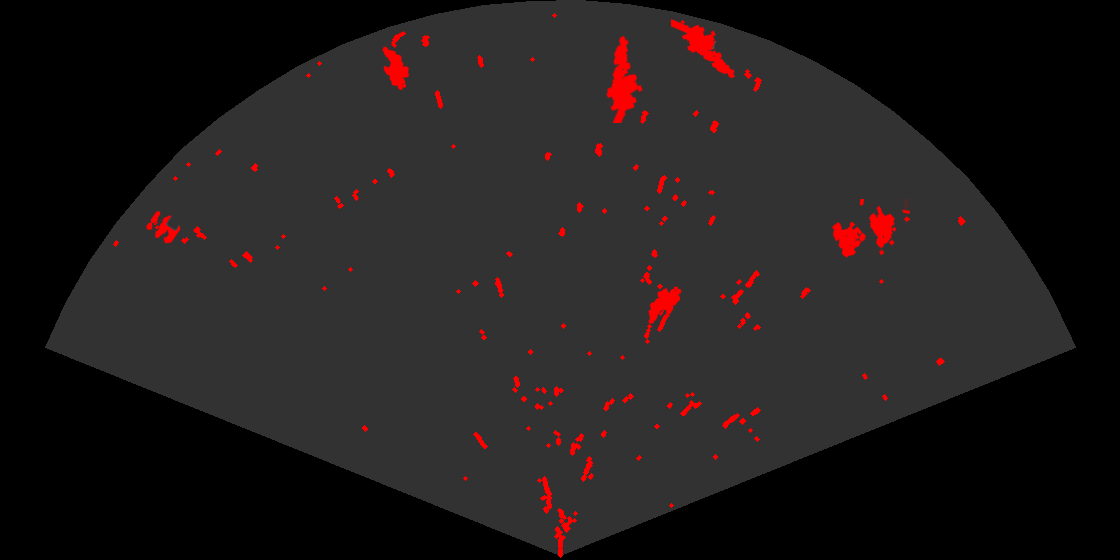AUV: (647, 285, 683, 325), (381, 45, 411, 92)
ball: (145, 210, 182, 245)
cage: (830, 199, 910, 259)
frogman: (671, 18, 737, 80), (605, 34, 644, 123)
